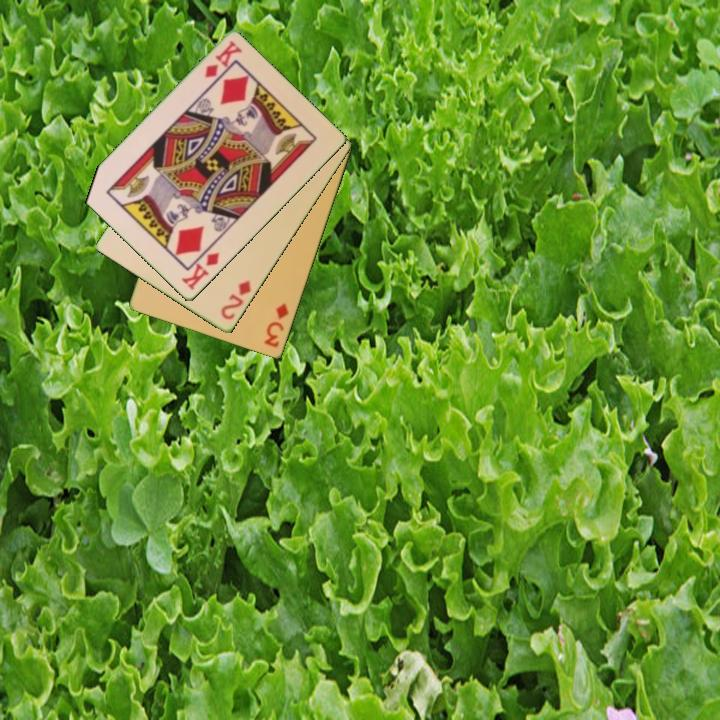2d: (217, 277, 254, 323)
3d: (261, 300, 292, 351)
Kd: (178, 249, 223, 293), (201, 37, 245, 81)
